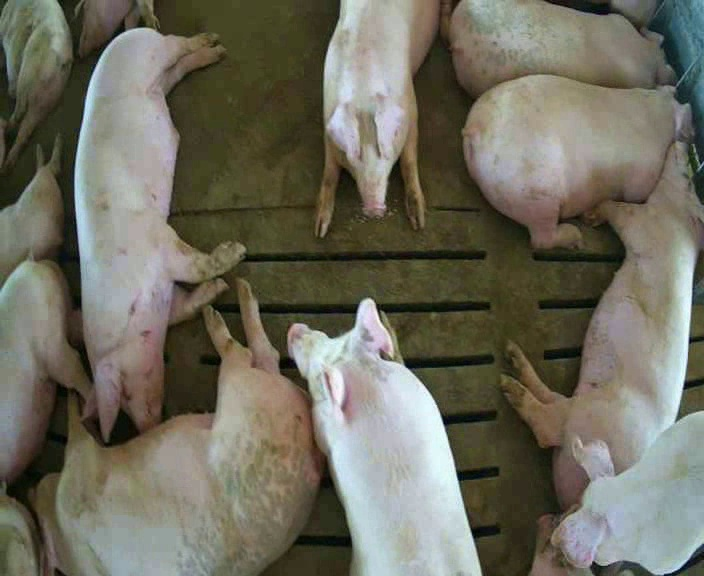pig: (28, 281, 321, 575), (502, 142, 703, 509), (75, 28, 244, 441), (288, 298, 479, 574), (463, 75, 691, 247), (316, 1, 452, 235), (552, 412, 703, 574), (449, 2, 672, 96), (0, 2, 72, 167), (0, 134, 62, 285)
